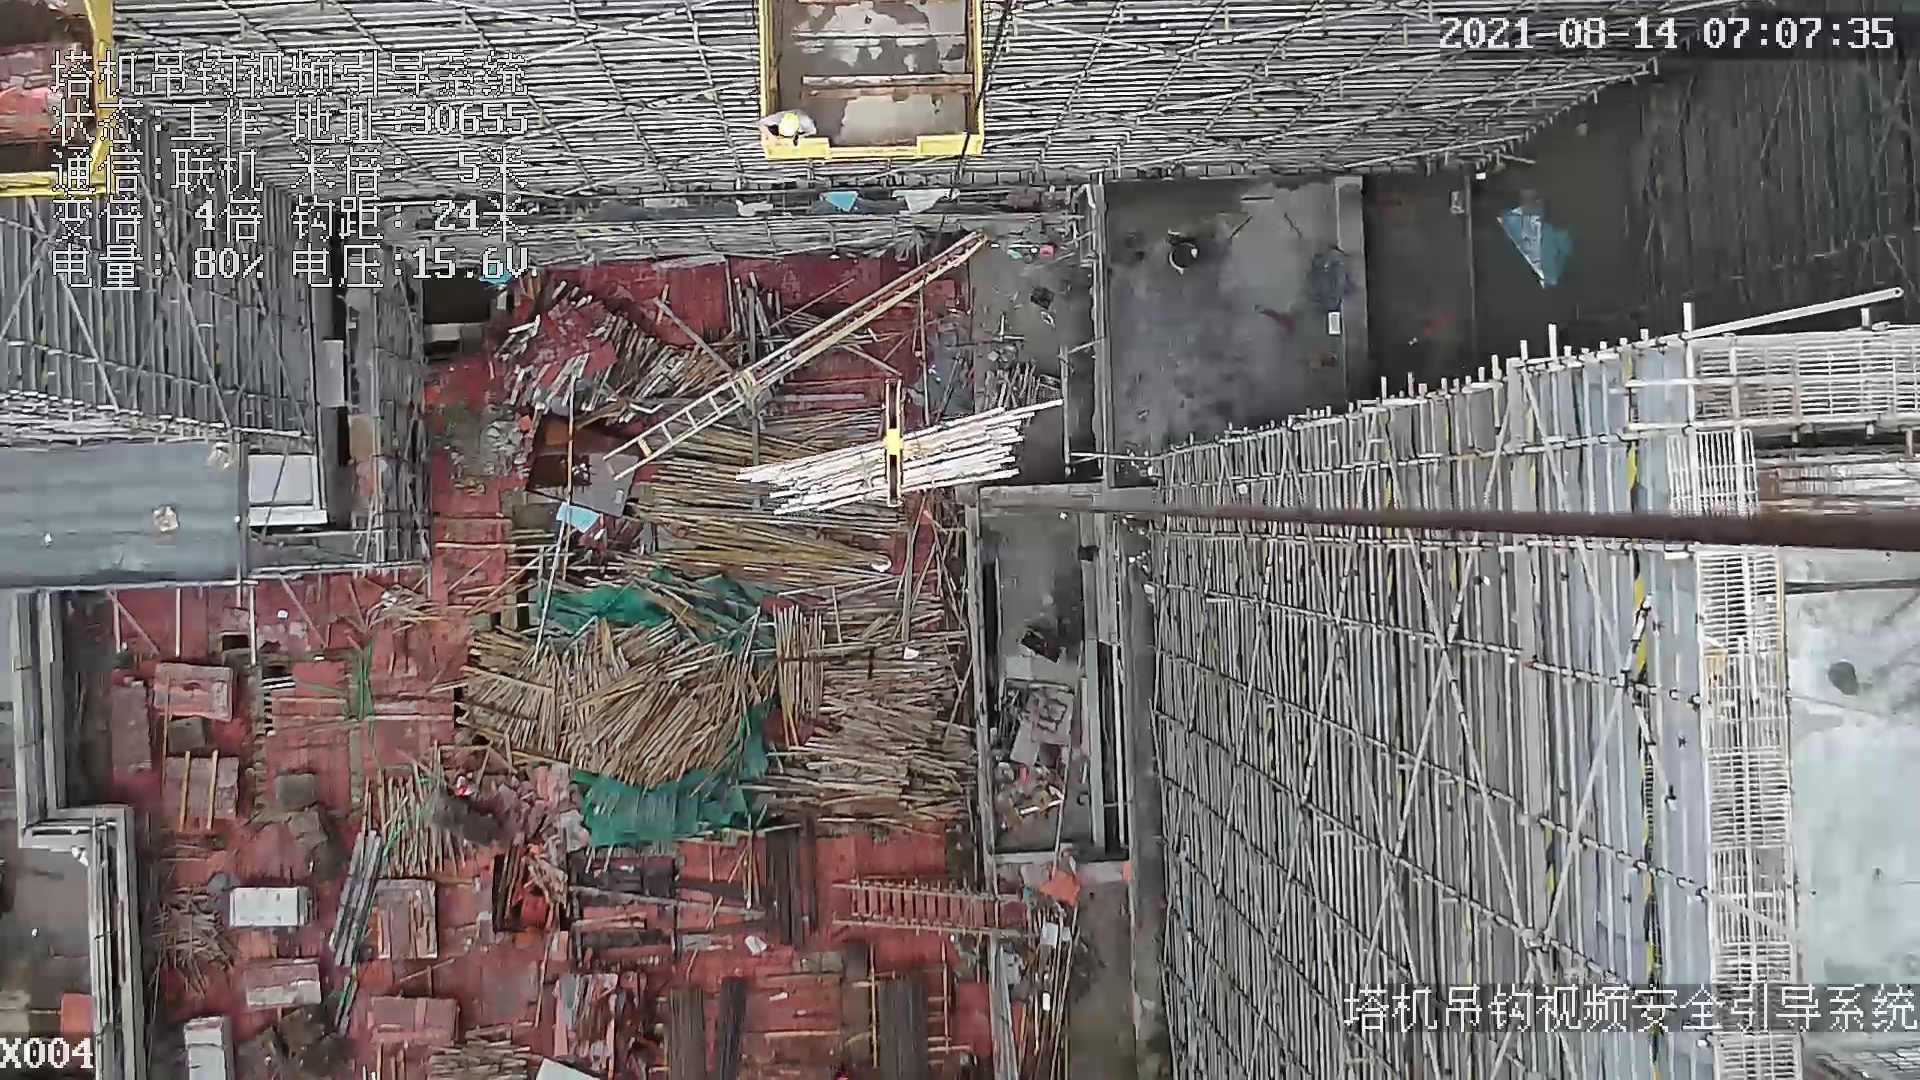helmet: (776, 112, 800, 138)
hook: (881, 371, 924, 514)
person: (753, 106, 819, 149)
